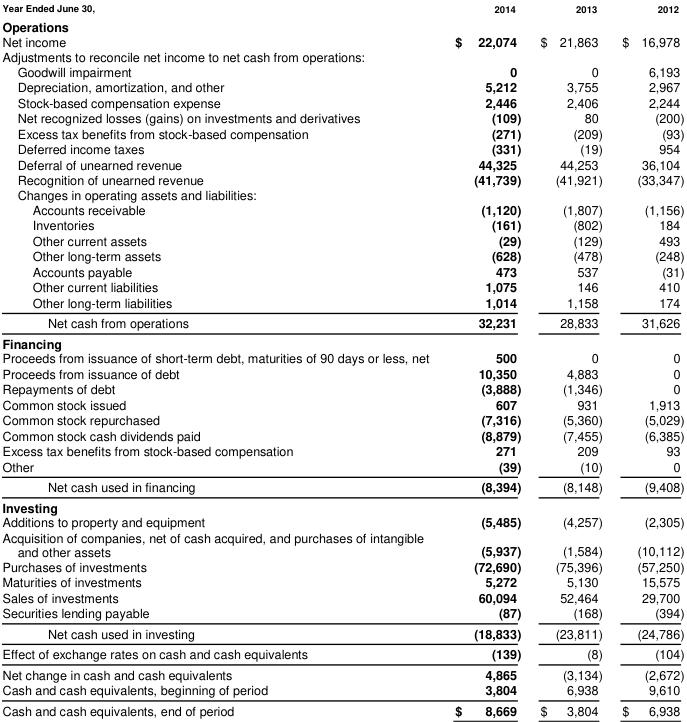table: (1, 1, 683, 718)
table column: (1, 1, 441, 718), (441, 1, 529, 718), (529, 1, 611, 718), (611, 1, 683, 718)
table column header: (1, 1, 683, 16)
table projected row header: (1, 332, 683, 350), (1, 496, 683, 514), (1, 16, 683, 33), (1, 48, 683, 63), (1, 186, 683, 201)
table row: (1, 529, 683, 558), (1, 622, 683, 643), (1, 312, 683, 332), (1, 476, 683, 496), (1, 643, 683, 663), (1, 699, 683, 718), (1, 294, 683, 312), (1, 332, 683, 350), (1, 458, 683, 476), (1, 496, 683, 514), (1, 604, 683, 622), (1, 663, 683, 681), (1, 681, 683, 699), (1, 16, 683, 33), (1, 78, 683, 94), (1, 124, 683, 140), (1, 155, 683, 171), (1, 216, 683, 232), (1, 247, 683, 263), (1, 278, 683, 294), (1, 380, 683, 396), (1, 411, 683, 427), (1, 442, 683, 458), (1, 573, 683, 589), (1, 1, 683, 16), (1, 33, 683, 48), (1, 48, 683, 63), (1, 63, 683, 78), (1, 94, 683, 109), (1, 109, 683, 124), (1, 140, 683, 155), (1, 171, 683, 186), (1, 186, 683, 201), (1, 201, 683, 216), (1, 232, 683, 247), (1, 263, 683, 278), (1, 350, 683, 365), (1, 365, 683, 380), (1, 396, 683, 411), (1, 427, 683, 442), (1, 514, 683, 529), (1, 558, 683, 573), (1, 589, 683, 604)
